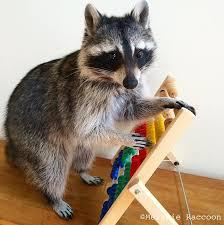raccoon: (5, 0, 197, 223)
